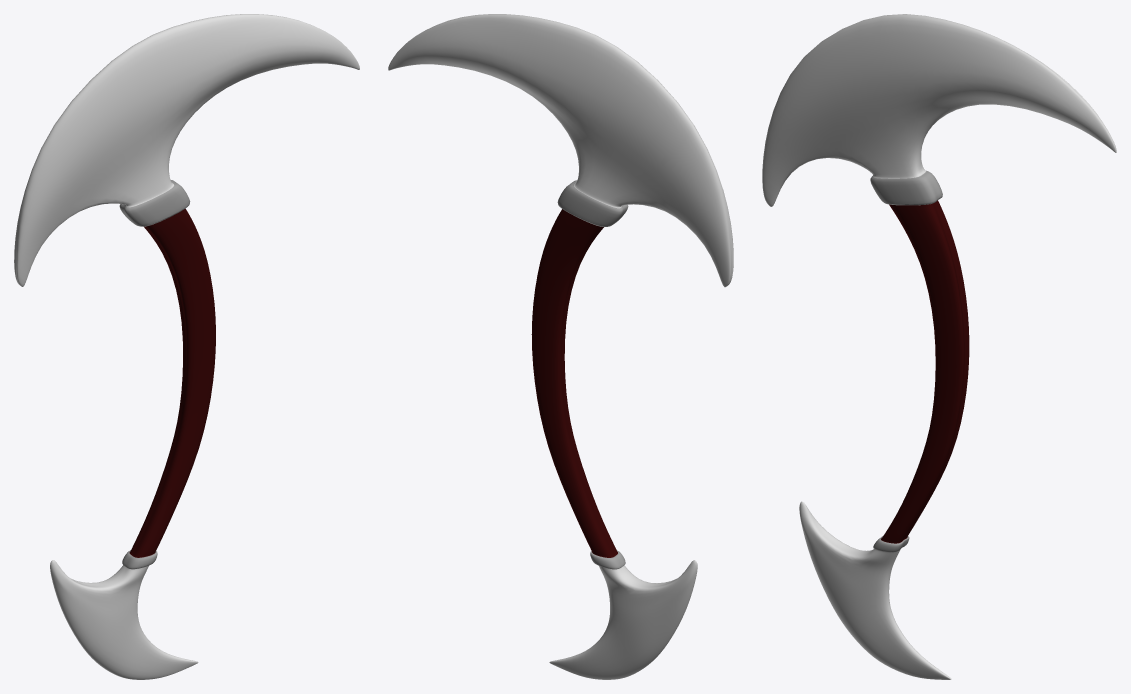
Rendered from Weapon_Enemies3.fbx.
3 views of the same model, side by side, from view 1: azimuth 30°, elevation 25°; view 2: azimuth 150°, elevation 25°; view 3: azimuth 330°, elevation 25° (orthographic). The views are drawn at different scales.
Parts seen in each view (by area): view 1: Cube; view 2: Cube; view 3: Cube.
Boxes of the visible parts, x1,y1,x2,y2 form: Cube: [14, 14, 359, 679]; Cube: [388, 14, 733, 679]; Cube: [762, 14, 1116, 679].
Bounding box in the file's own units: 78.06 × 141 × 6.46.
